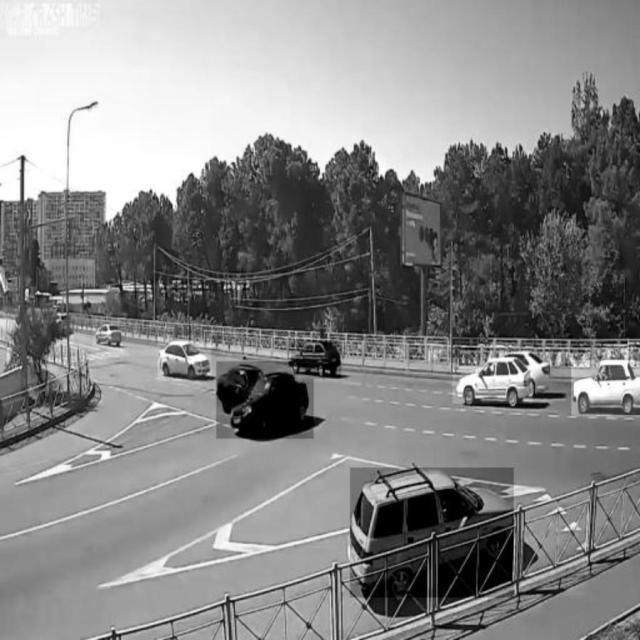accident: (217, 361, 315, 438)
vehicle: (350, 468, 514, 598), (571, 360, 640, 416), (453, 358, 533, 404), (157, 336, 211, 382), (292, 340, 342, 378), (92, 319, 122, 347)
